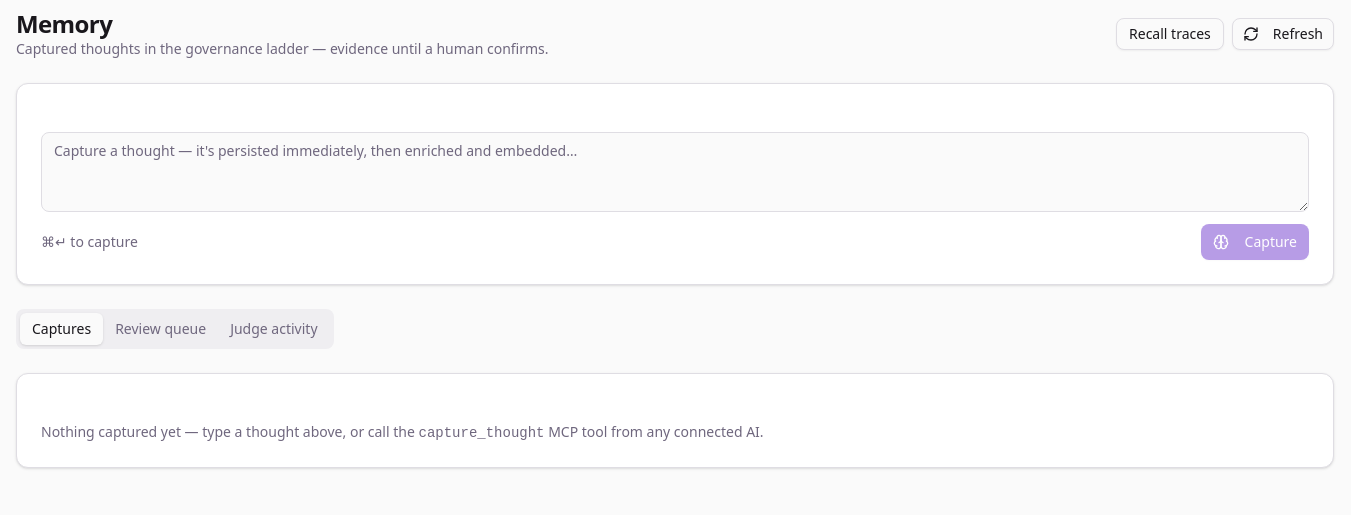
Scenario: lists judgment events with decision and risk class
Click the tab "Judge activity".
click(274, 329)  # box [218,313,330,345]
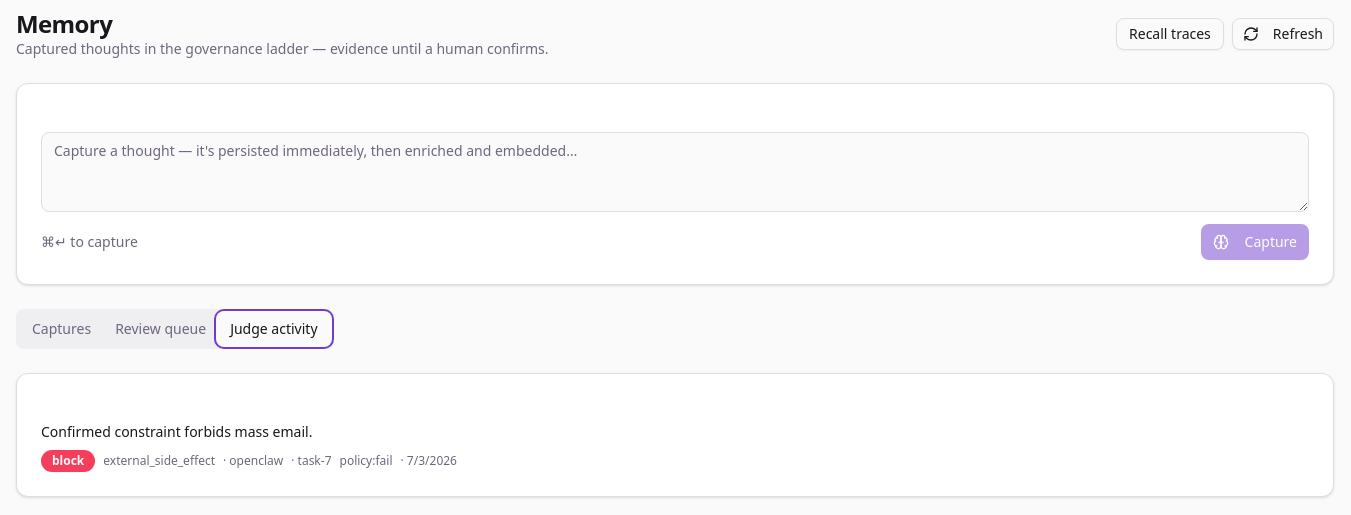
Expected: the text "Confirmed constraint forbids mass email." is shown, [41,422,312,441]
Expected: the text "block" is shown, [41,450,95,472]
Expected: the text "external_side_effect" is shown, [103,453,215,469]
